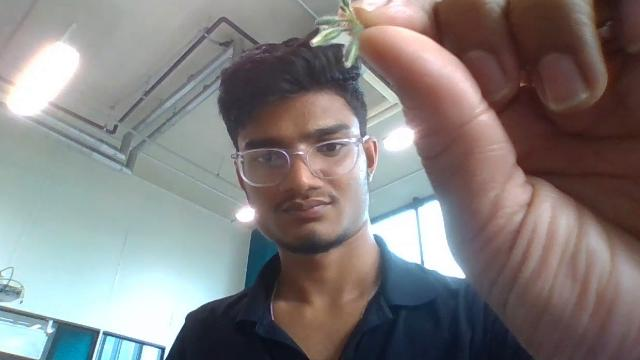Flower Bud: (309, 24, 348, 47), (343, 35, 361, 69), (338, 0, 353, 12)
